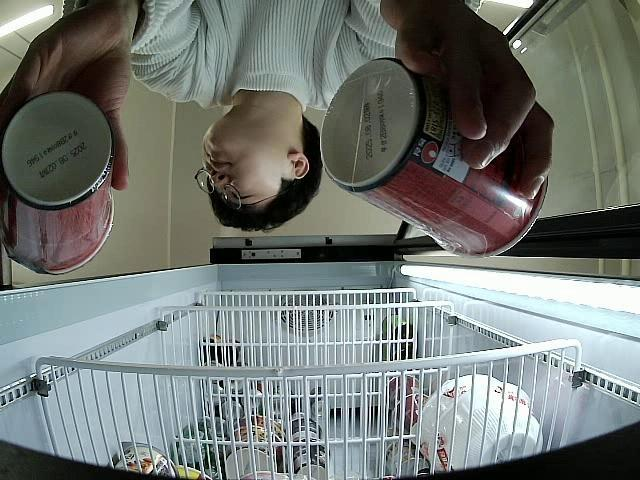02_shinRamen_S: (322, 56, 546, 260), (0, 92, 115, 275)
